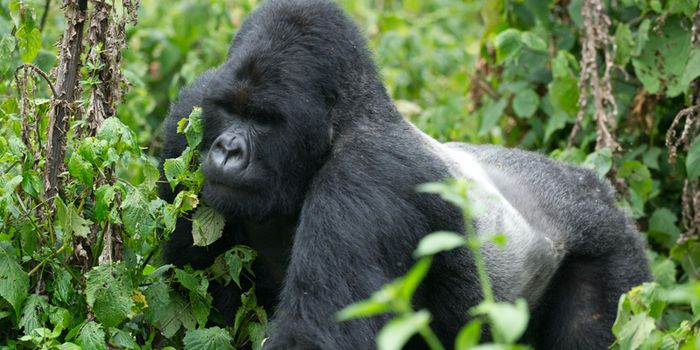Gorilla: (169, 10, 621, 339)
